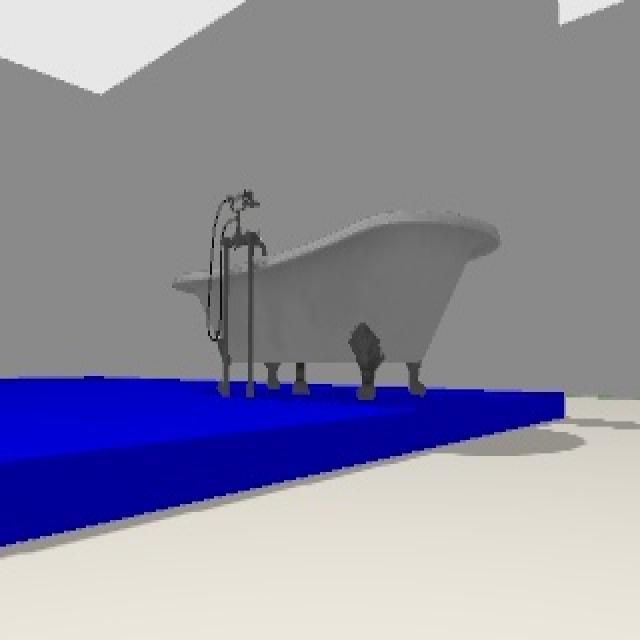bathtub: (176, 186, 504, 407)
